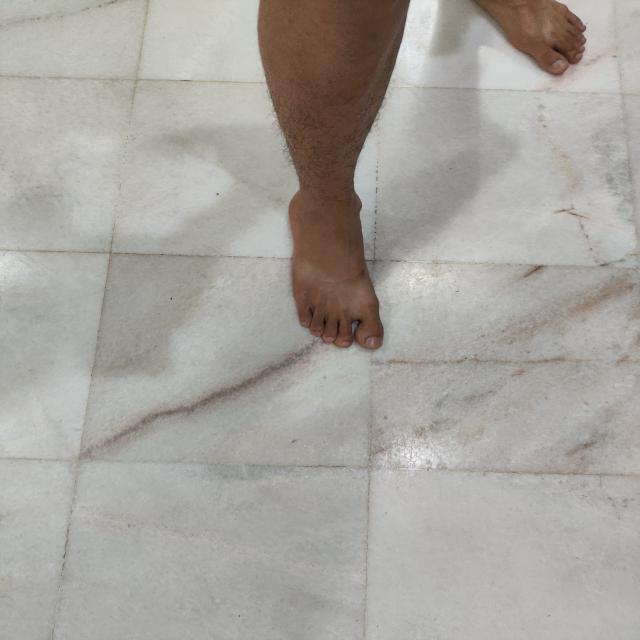No_Shoes: (198, 144, 418, 370), (445, 2, 596, 78)
